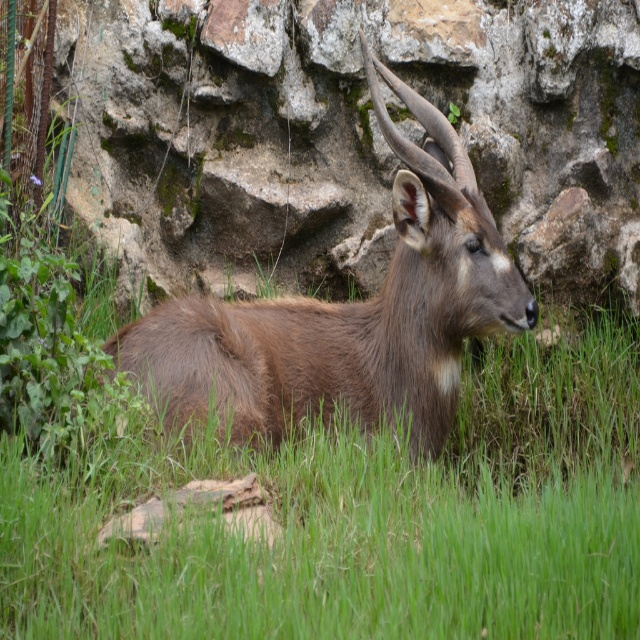Deer: (77, 30, 539, 507)
